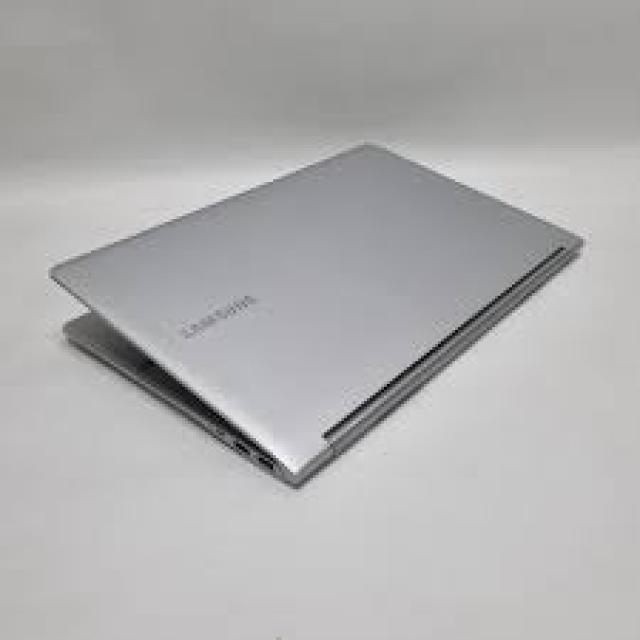laptop: (47, 138, 584, 487)
